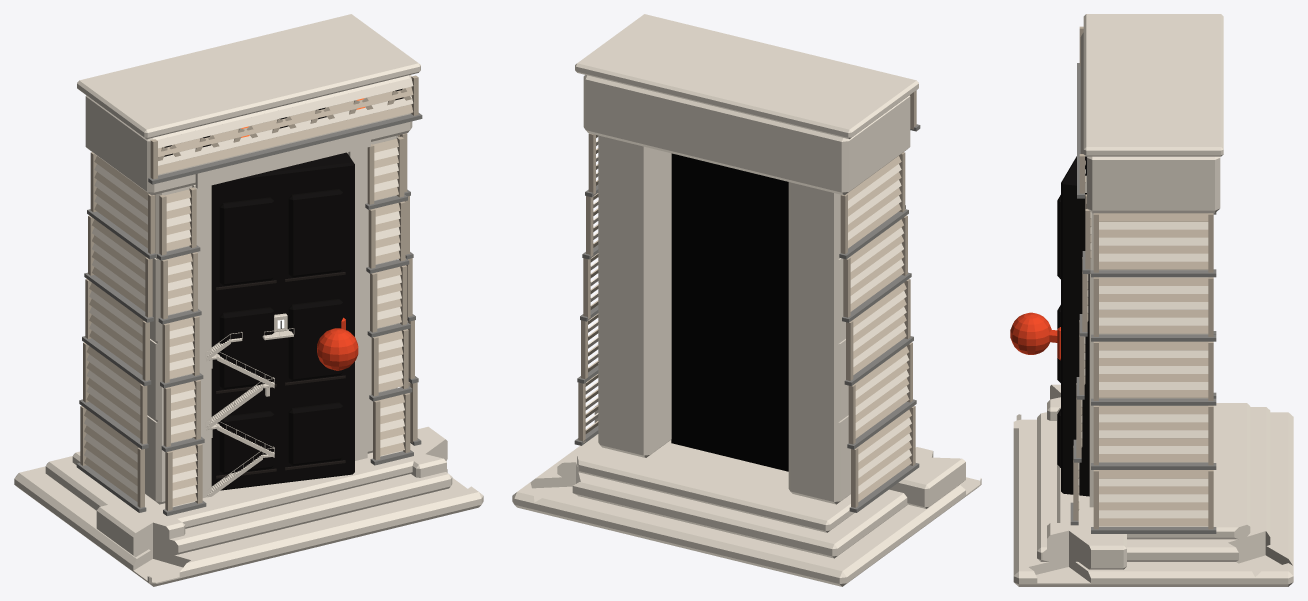
The model's file is door_lake.glb.
The picture shows the model from 3 angles, left to right: view 1: azimuth 30°, elevation 25°; view 2: azimuth 150°, elevation 25°; view 3: azimuth 270°, elevation 25°; orthographic projection.
Visible parts, largest first — view 1: door_lake; view 2: door_lake; view 3: door_lake.
Part boxes in pixels (x1=…): door_lake: x1=14, y1=14, x2=483, y2=586; door_lake: x1=512, y1=14, x2=981, y2=586; door_lake: x1=1010, y1=14, x2=1293, y2=586.
Bounding box in the file's own units: 58 × 70.6 × 42.51.
